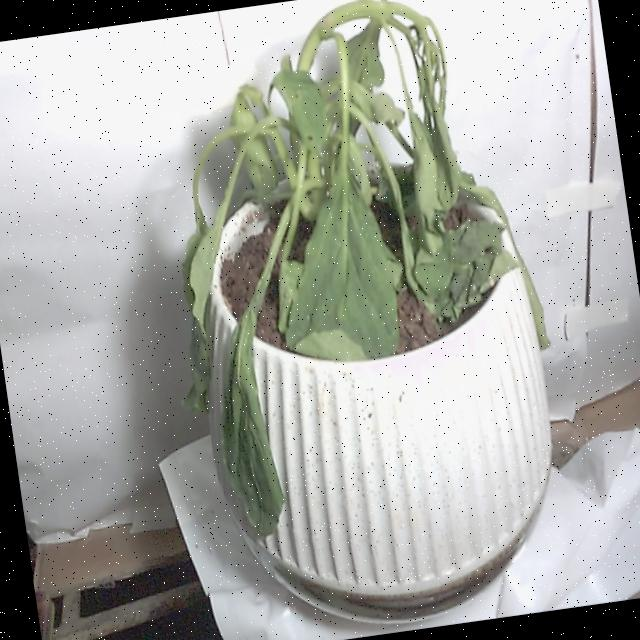Leaf: (258, 156, 405, 370), (202, 305, 295, 546)
